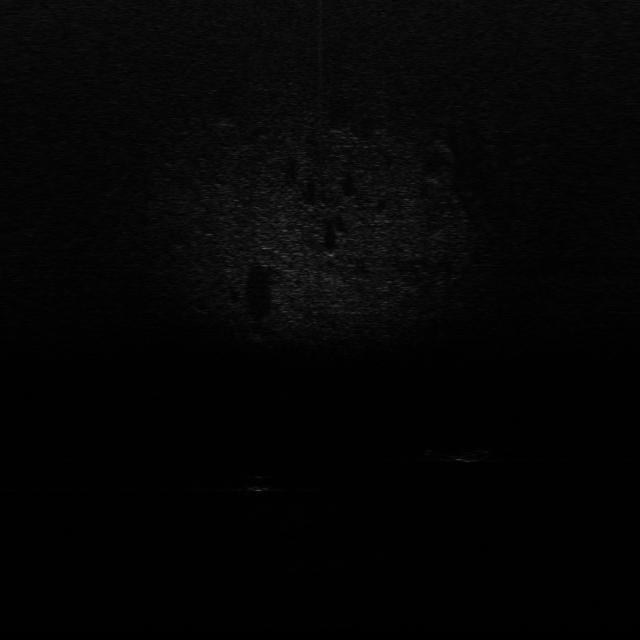ball: (243, 472, 276, 494)
human body: (423, 446, 502, 466)
